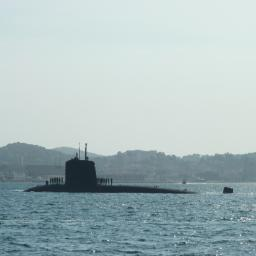submarine: (27, 141, 236, 196)
